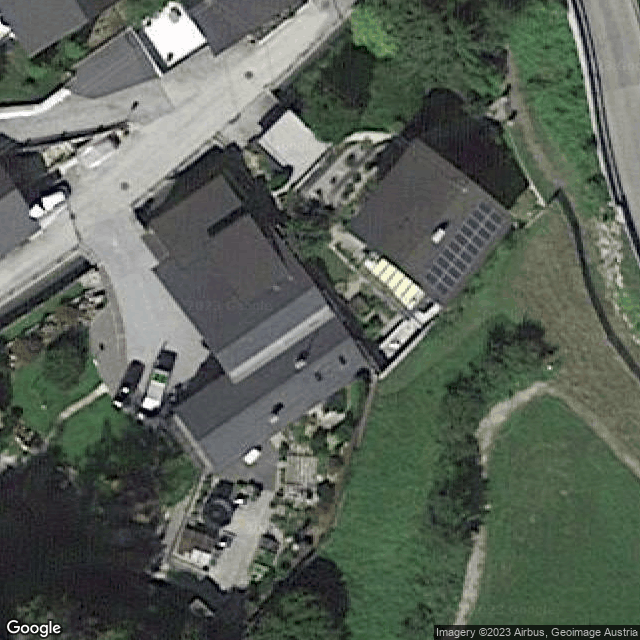obstacles: (429, 228, 448, 248), (293, 358, 309, 375), (266, 412, 282, 427)
roof: (150, 172, 371, 474), (349, 137, 516, 311), (1, 1, 120, 59), (1, 160, 41, 257)
